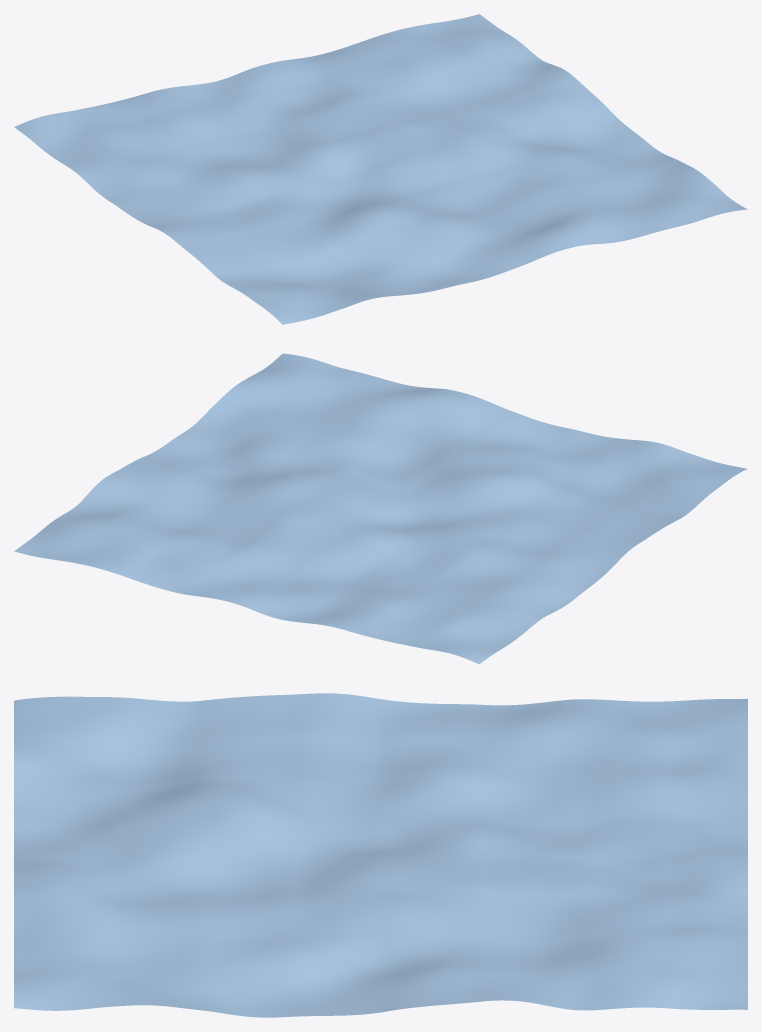
The model's file is water.fbx.
3 views of the same model, one above another, from view 1: azimuth 30°, elevation 25°; view 2: azimuth 150°, elevation 25°; view 3: azimuth 270°, elevation 25° (orthographic). The views are drawn at different scales.
Parts seen in each view (by area): view 1: Water; view 2: Water; view 3: Water.
Boxes of the visible parts, x1,y1,x2,y2 form: Water: (14, 14, 747, 324); Water: (14, 353, 747, 664); Water: (14, 693, 747, 1017).
Size of the model in its own units: 2000 by 73.15 by 2000.
